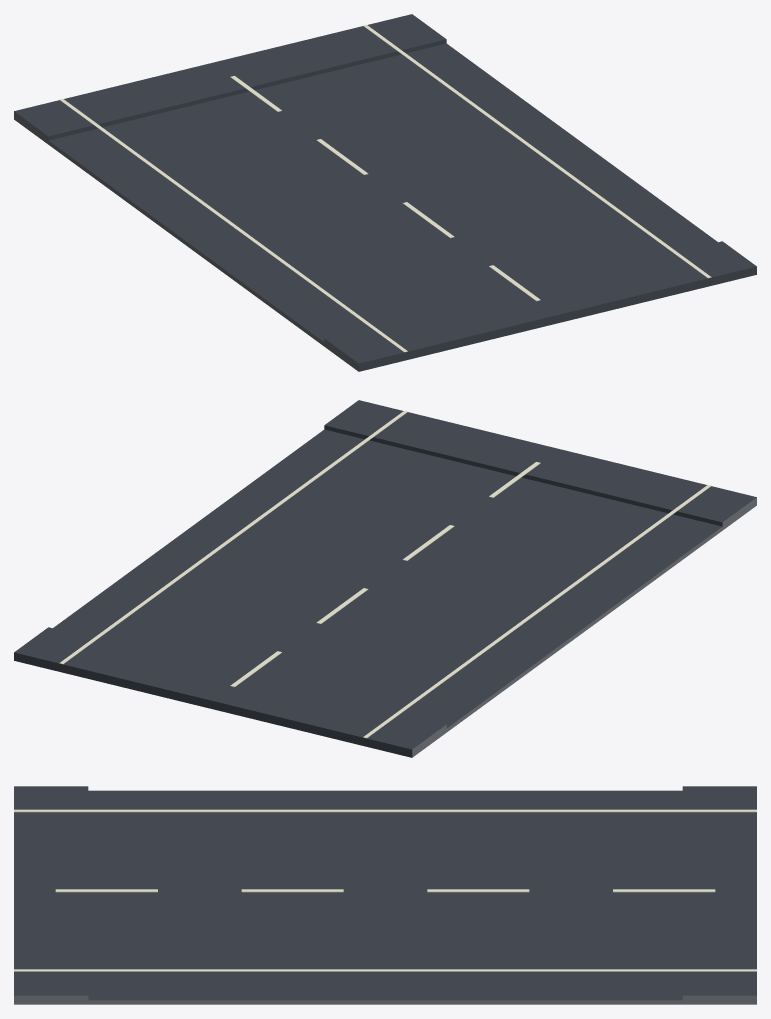
File: ap_tramo_recto.glb
The picture shows the model from 3 angles, top to bottom: view 1: azimuth 30°, elevation 25°; view 2: azimuth 150°, elevation 25°; view 3: azimuth 270°, elevation 25°; orthographic projection. The views are drawn at different scales.
Visible parts, largest first — view 1: road-straight, Linea_lateral, Linea_lateral.001; view 2: road-straight, Linea_lateral, Linea_lateral.001; view 3: road-straight, Linea_lateral, Linea_lateral.001, Linea_discontinua, Linea_discontinua.001, Linea_discontinua.002, Linea_discontinua.003.
Boxes of the visible parts, bbox=[...] form: road-straight: bbox=[14, 14, 756, 371]; Linea_lateral: bbox=[59, 99, 407, 352]; Linea_lateral.001: bbox=[363, 24, 711, 278]; road-straight: bbox=[14, 400, 756, 757]; Linea_lateral: bbox=[363, 485, 711, 738]; Linea_lateral.001: bbox=[59, 410, 407, 664]; road-straight: bbox=[14, 786, 756, 1004]; Linea_lateral: bbox=[14, 809, 756, 812]; Linea_lateral.001: bbox=[14, 969, 756, 971]; Linea_discontinua: bbox=[55, 889, 157, 892]; Linea_discontinua.001: bbox=[241, 889, 343, 892]; Linea_discontinua.002: bbox=[427, 889, 529, 892]; Linea_discontinua.003: bbox=[613, 889, 715, 892].
Bounding box in the file's own units: 8 × 0.17 × 12.
